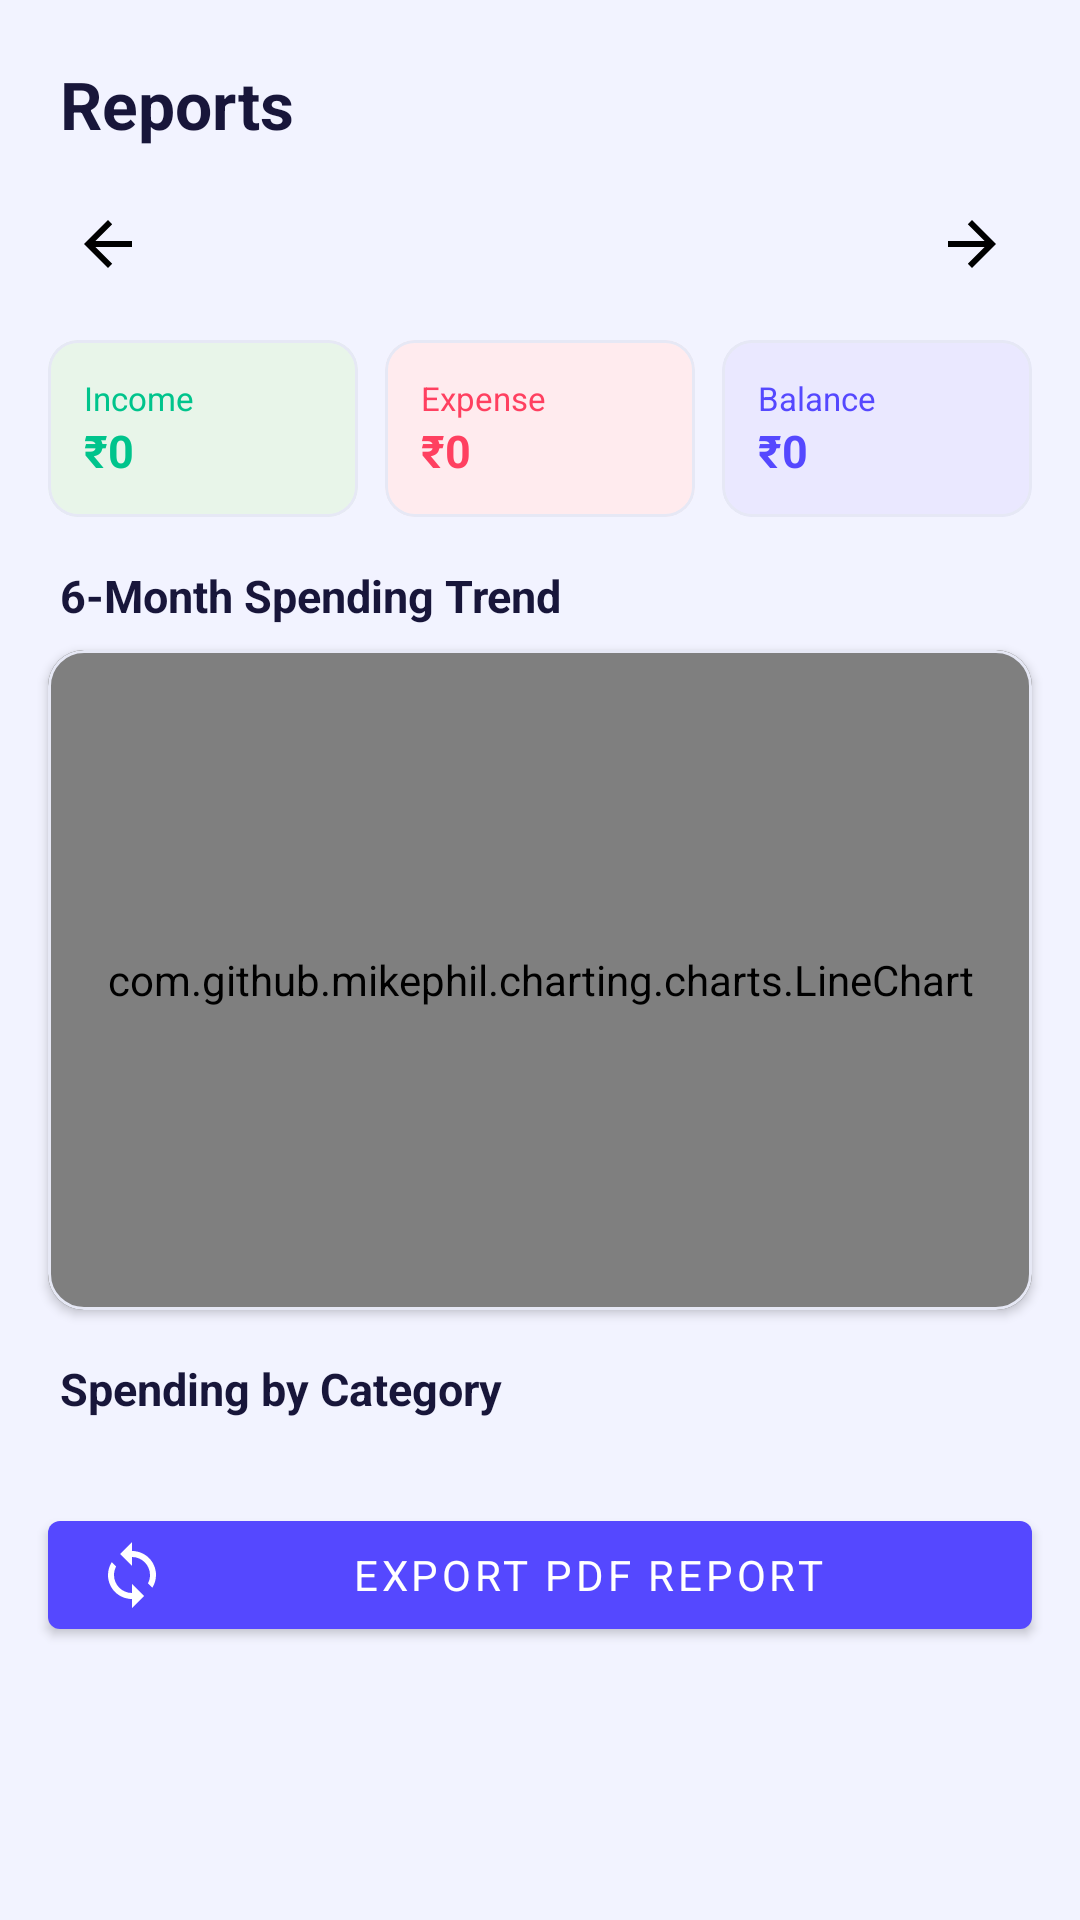

Named icons in this screenshot (1080px×1920px) and their centers, point (x, y):
Previous month: point (108, 244)
